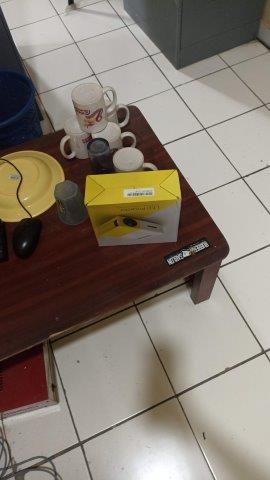kardus: (84, 170, 182, 246)
